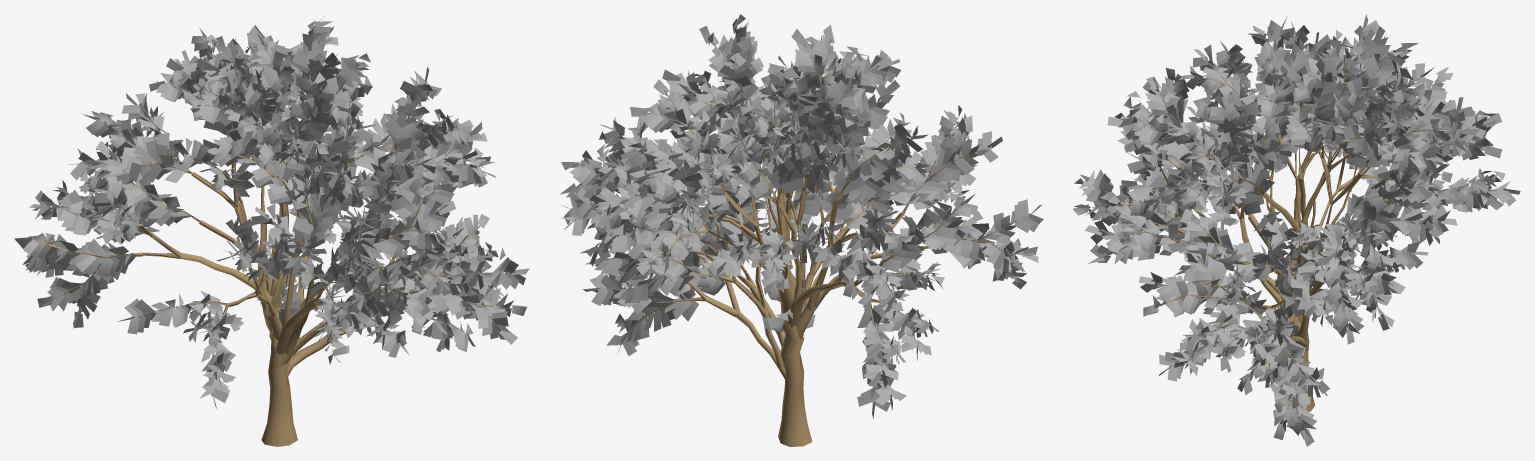
File: SmallOak.fbx
3 views of the same model, side by side, from view 1: azimuth 30°, elevation 25°; view 2: azimuth 150°, elevation 25°; view 3: azimuth 270°, elevation 25° (orthographic). The views are drawn at different scales.
Parts seen in each view (by area): view 1: SmallOak_Leaves, SmallOak_Trunk; view 2: SmallOak_Leaves, SmallOak_Trunk; view 3: SmallOak_Leaves, SmallOak_Trunk.
Part boxes in pixels (x1,y1,x2,y2): SmallOak_Leaves: (14,15,529,408); SmallOak_Trunk: (33,31,509,446); SmallOak_Leaves: (560,14,1043,418); SmallOak_Trunk: (574,42,1027,446); SmallOak_Leaves: (1073,14,1520,446); SmallOak_Trunk: (1090,33,1501,428).
Size of the model in its own units: 4.54 by 4.1 by 4.5.
